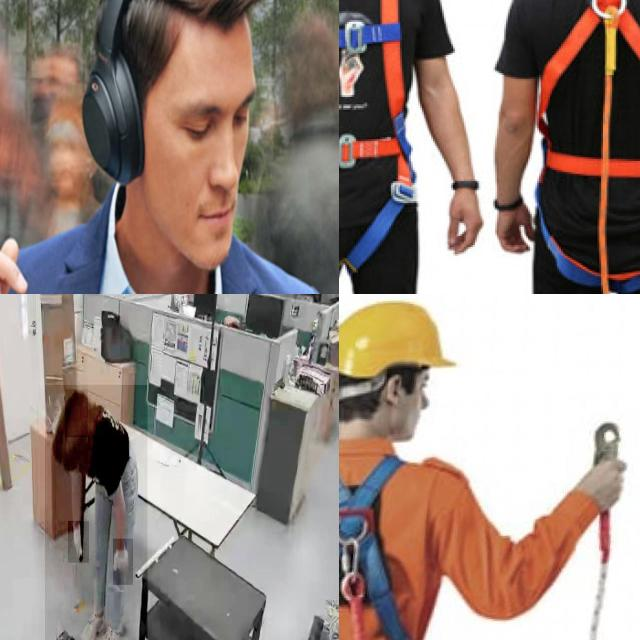Ear-protection: (78, 0, 276, 293)
Harness: (526, 0, 640, 281), (339, 0, 423, 283), (339, 455, 411, 640)
No_Glasses: (161, 63, 264, 166)
hand_glove: (113, 538, 133, 586), (68, 521, 90, 563)
head_nohelmet: (65, 390, 88, 438)
person: (45, 385, 148, 640)
shoes: (79, 606, 107, 640), (95, 622, 126, 640)
